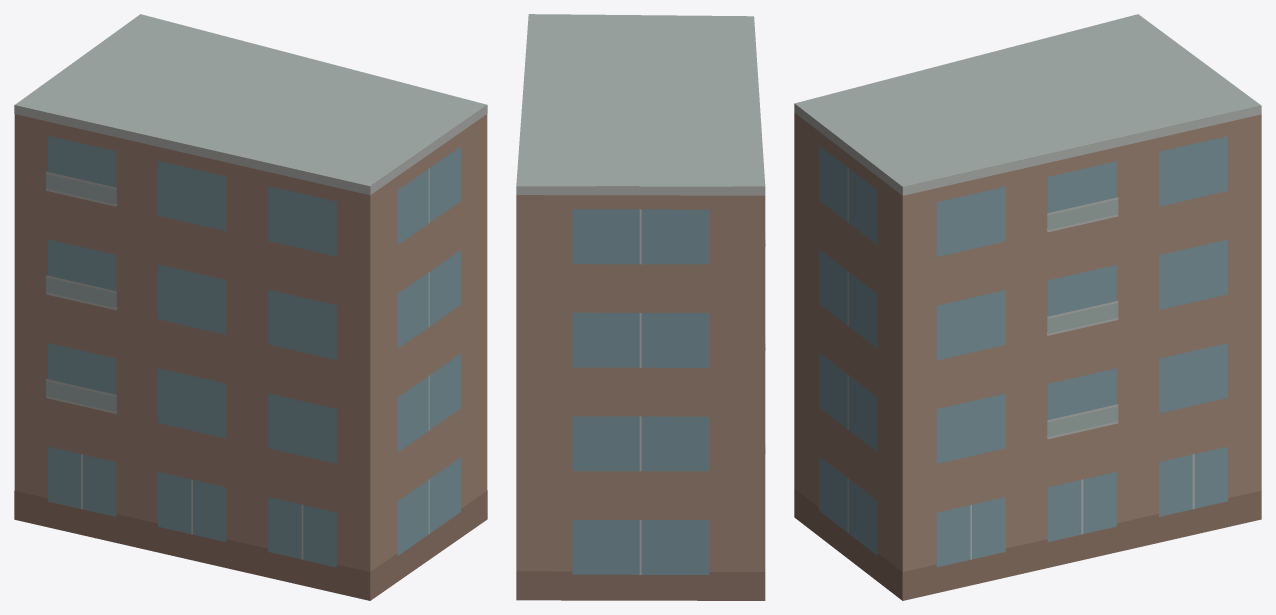
The model's file is survey-upis-32462109.glb.
3 views of the same model, side by side, from view 1: azimuth 30°, elevation 25°; view 2: azimuth 150°, elevation 25°; view 3: azimuth 270°, elevation 25° (orthographic).
Visible parts, largest first — view 1: survey-upis-32462109.tmp; view 2: survey-upis-32462109.tmp; view 3: survey-upis-32462109.tmp.
Boxes of the visible parts, <box> form: survey-upis-32462109.tmp: <box>14,14,487,600</box>; survey-upis-32462109.tmp: <box>516,14,765,600</box>; survey-upis-32462109.tmp: <box>794,14,1261,600</box>.
Bounding box in the file's own units: 10.13 × 11.3 × 11.57.
